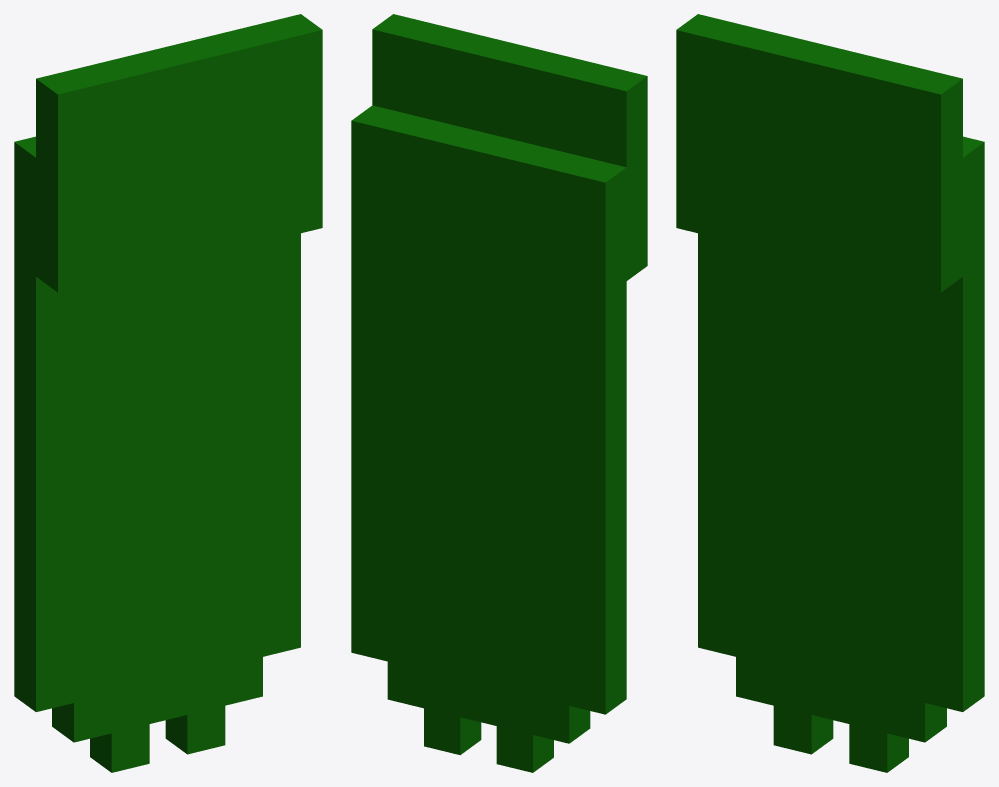
File: zunko_Hair.obj
The picture shows the model from 3 angles, left to right: view 1: azimuth 30°, elevation 25°; view 2: azimuth 150°, elevation 25°; view 3: azimuth 330°, elevation 25°; orthographic projection. The views are drawn at different scales.
Visible parts, largest first — view 1: zunko_Hair; view 2: zunko_Hair; view 3: zunko_Hair.
Boxes of the visible parts, x1,y1,x2,y2 form: zunko_Hair: (14,14,322,772); zunko_Hair: (351,14,647,772); zunko_Hair: (676,14,984,772).
Size of the model in its own units: 7 by 18 by 2.
Materials: 1 (1 with a texture image).
